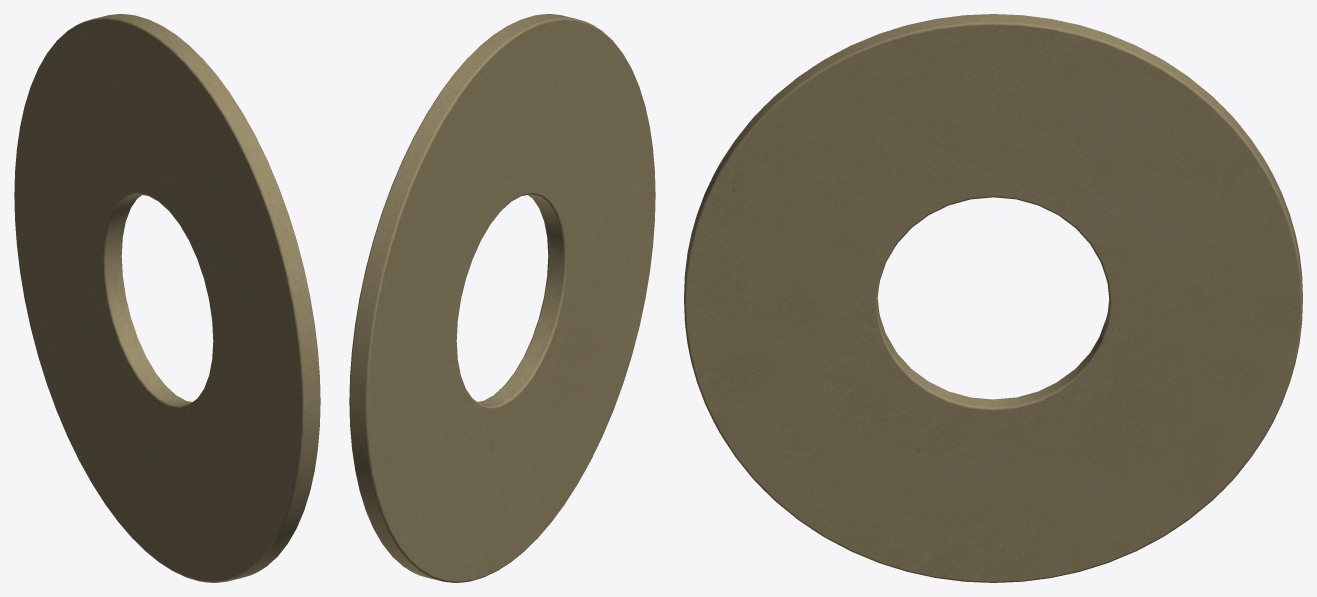
The model's file is sceneA.gltf.
The picture shows the model from 3 angles, left to right: view 1: azimuth 30°, elevation 25°; view 2: azimuth 150°, elevation 25°; view 3: azimuth 270°, elevation 25°; orthographic projection. The views are drawn at different scales.
Parts seen in each view (by area): view 1: object_1; view 2: object_1; view 3: object_1.
Boxes of the visible parts, x1=… form: object_1: x1=14, y1=14, x2=320, y2=582; object_1: x1=349, y1=14, x2=655, y2=582; object_1: x1=684, y1=14, x2=1302, y2=582.
Bounding box in the file's own units: 0.18 × 4.8 × 4.8.
Materials: 1 (1 with a texture image).
